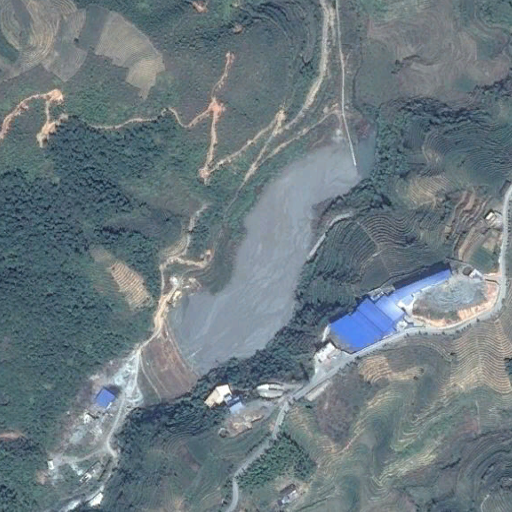tp: (134, 124, 377, 405)
